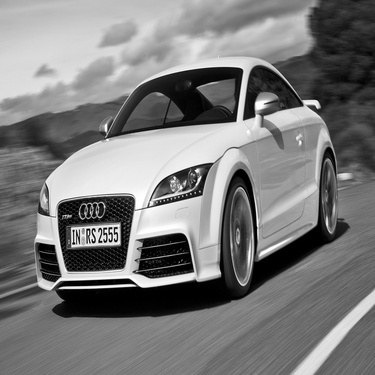car: (34, 51, 344, 308)
